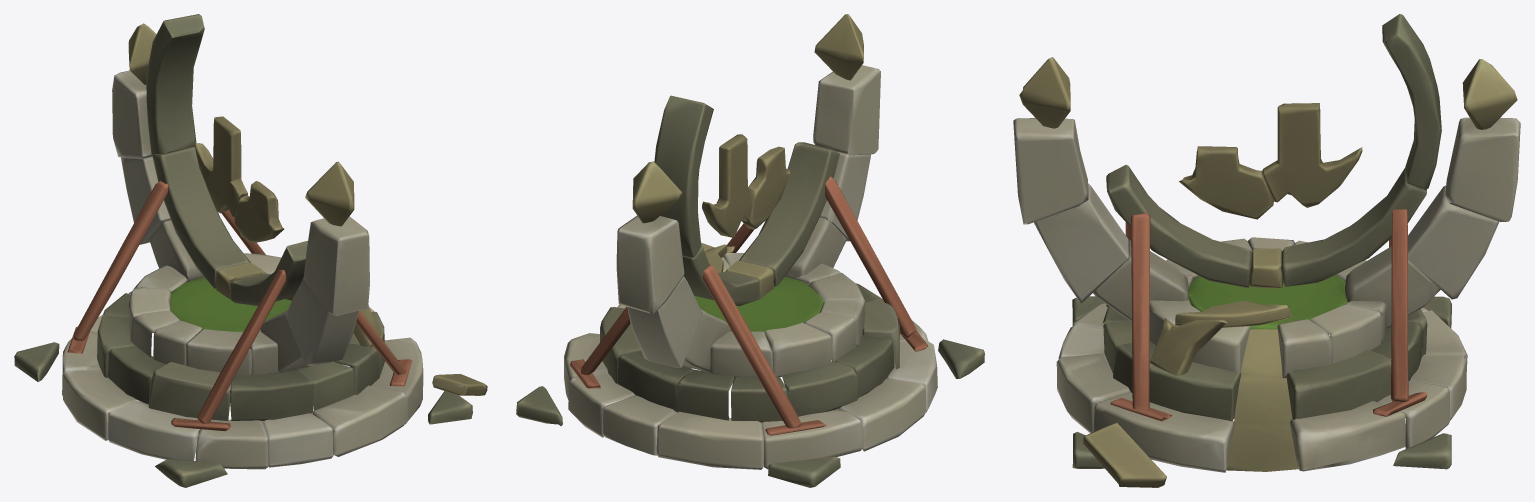
Rendered from SM_Monument_05.glb.
3 renders of one model, left to right at view 1: azimuth 30°, elevation 25°; view 2: azimuth 150°, elevation 25°; view 3: azimuth 270°, elevation 25°, orthographic. The views are drawn at different scales.
Visible parts, largest first — view 1: SM_Monument_05; view 2: SM_Monument_05; view 3: SM_Monument_05.
Part boxes in pixels (x1=…): SM_Monument_05: x1=14, y1=14, x2=487, y2=487; SM_Monument_05: x1=516, y1=14, x2=984, y2=487; SM_Monument_05: x1=1013, y1=14, x2=1520, y2=487.
Bounding box in the file's own units: 9.19 × 8.63 × 10.71.
1 material, 1 textured.
